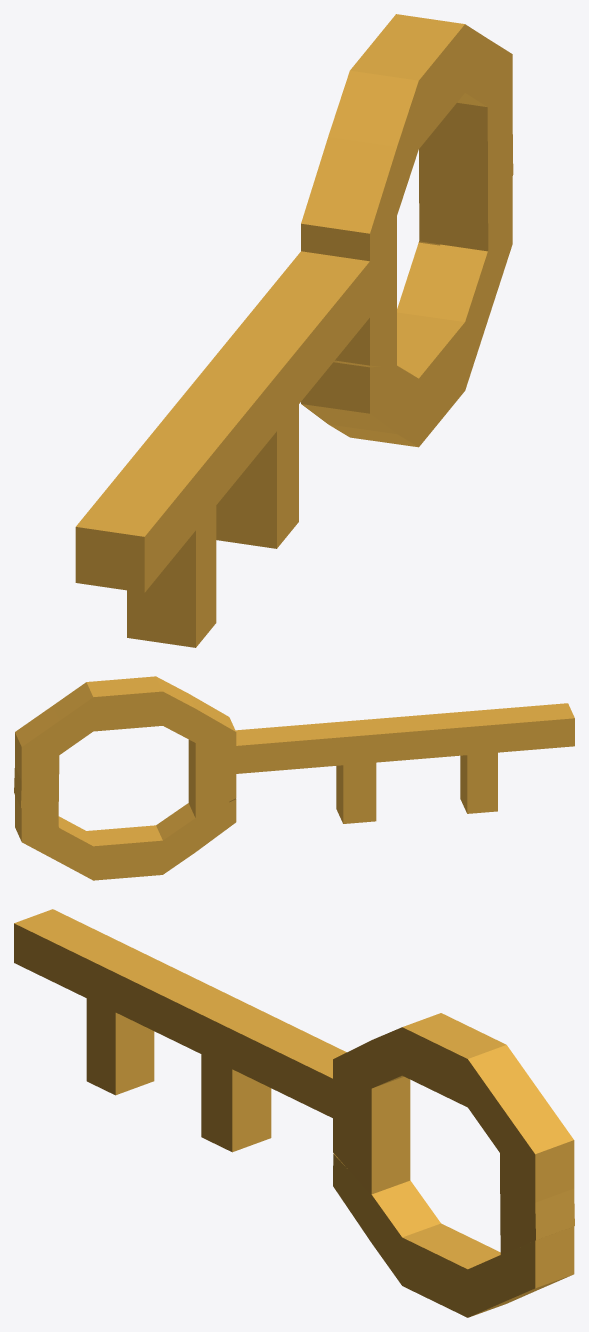
Rendered from key.fbx.
3 views of the same model, one above another, from view 1: azimuth 30°, elevation 25°; view 2: azimuth 150°, elevation 25°; view 3: azimuth 270°, elevation 25° (orthographic). The views are drawn at different scales.
Visible parts, largest first — view 1: Key; view 2: Key; view 3: Key.
Boxes of the visible parts, <box> form: Key: <box>75,14,513,647</box>; Key: <box>14,676,574,880</box>; Key: <box>14,909,574,1317</box>.
Size of the model in its own units: 972 by 437 by 858.
